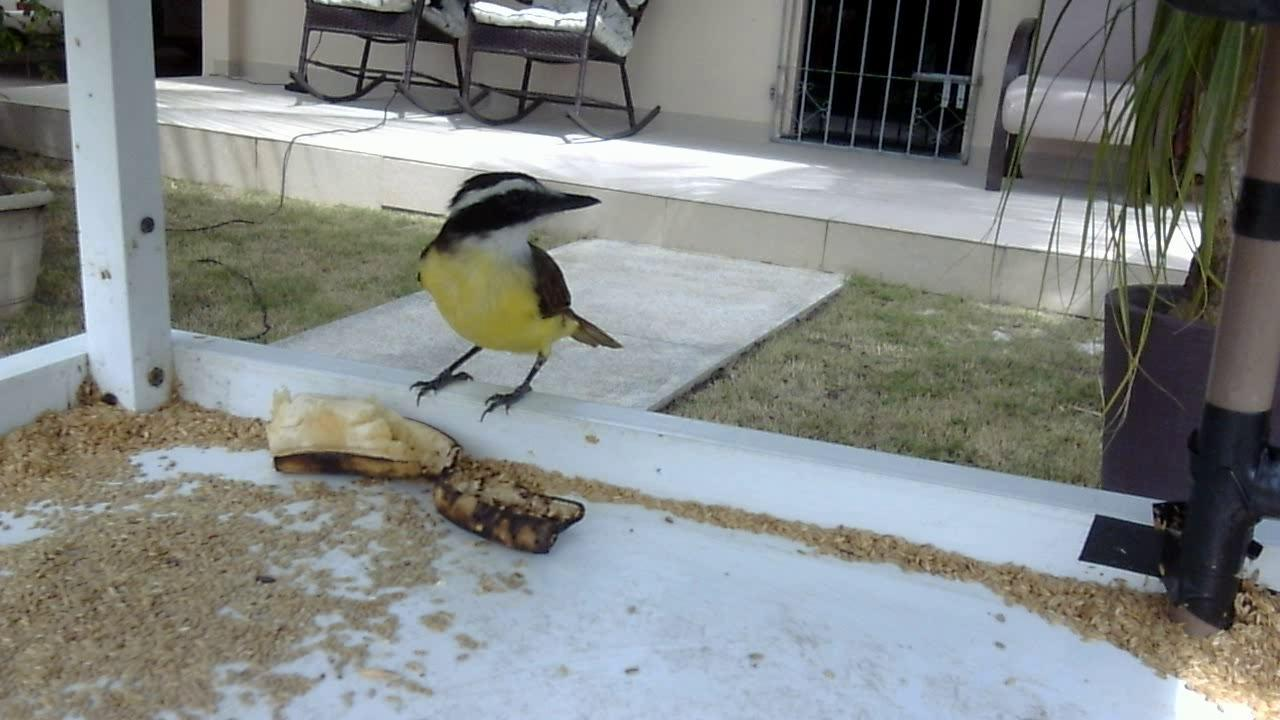bem_te_vi: (395, 165, 627, 431)
